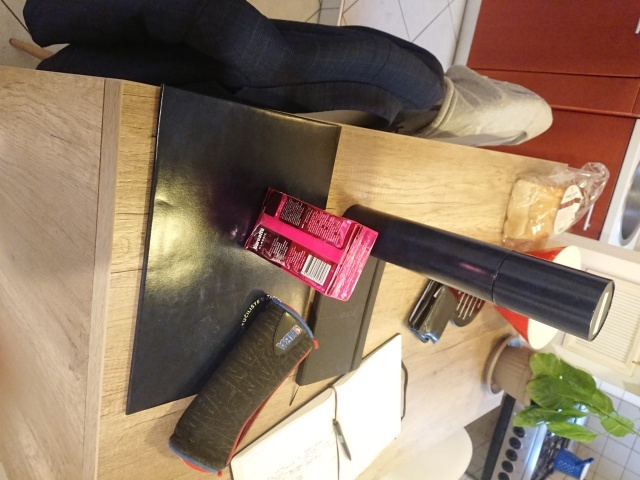Barcaffe Classic Original 225g: (239, 183, 381, 303)
